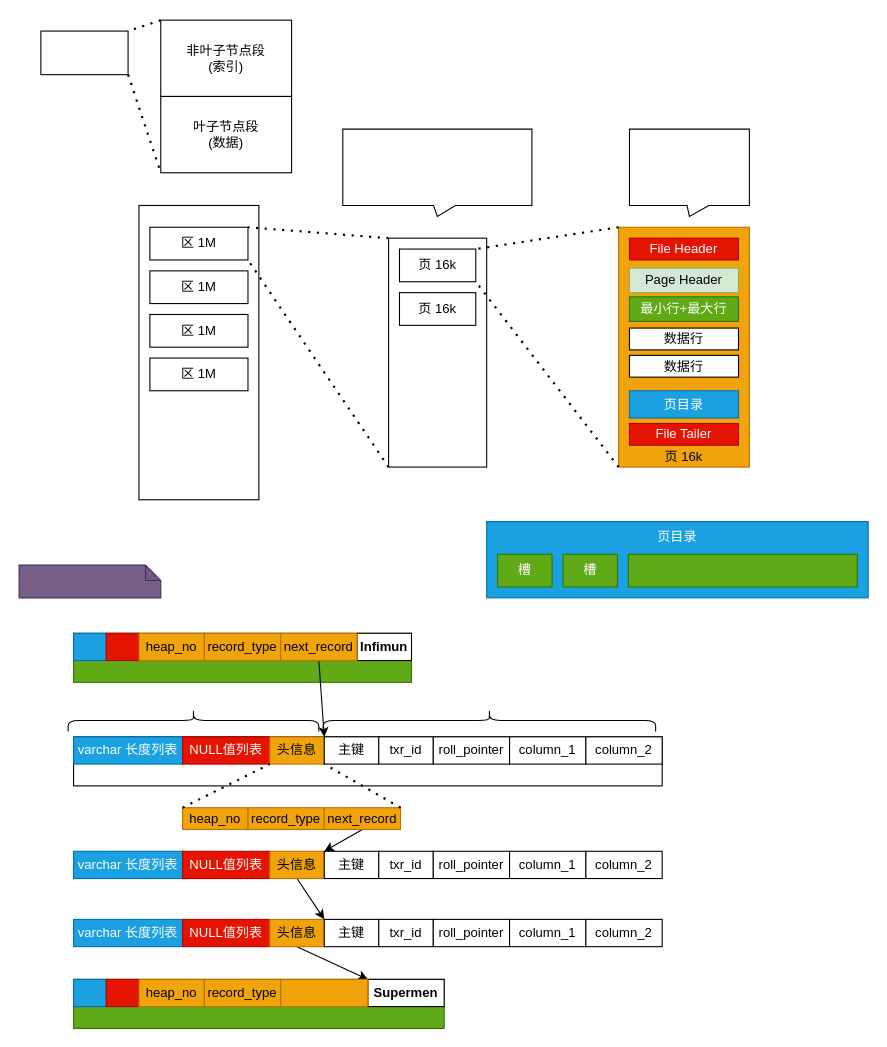
Some shapes in this 887 by 1047 pixel diagram are drawn without their labels. The shapes that lost their labels are listed below. From the top down, each one's box as (x1, y1, x2, y2) in pixels, then its label:
(40, 30, 128, 75): .ibd
(342, 128, 532, 216): 创建表时，生成区组的第一个区，称为碎片区，包含6个页，其中2个空闲页，碎片区最多包含32个页
(628, 128, 749, 216): Undo Log 页 Change Buffer 页 索引页
(138, 204, 259, 500): 区组 256M = 256 * 1M
(387, 237, 487, 467): 区 1M = 64 * 16k
(18, 564, 161, 598): 数据行为单向链表
(627, 553, 857, 587): 槽 (每八行创建一个槽，记录首行地址)
(72, 632, 411, 682): 最小行
(67, 708, 319, 731): 额外信息
(322, 708, 656, 731): 真实数据
(72, 736, 662, 786): 行 <= 8k
(72, 978, 444, 1028): 最大行
(280, 978, 368, 1007): next_record:0
